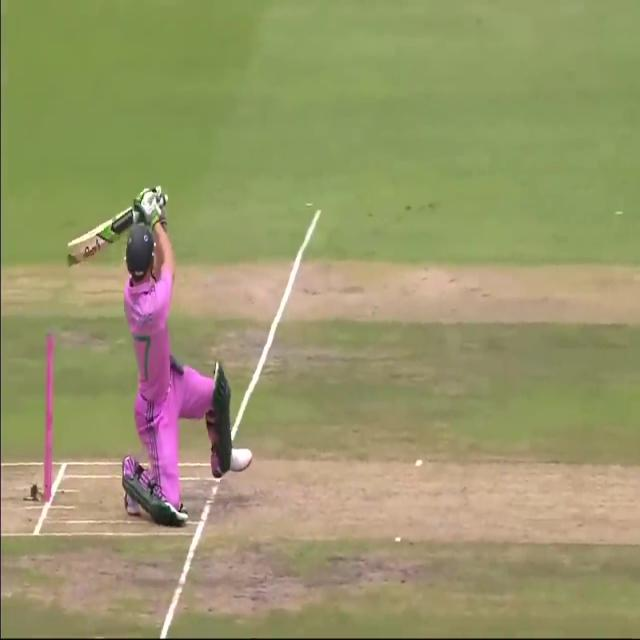Ball: (119, 184, 252, 516)
